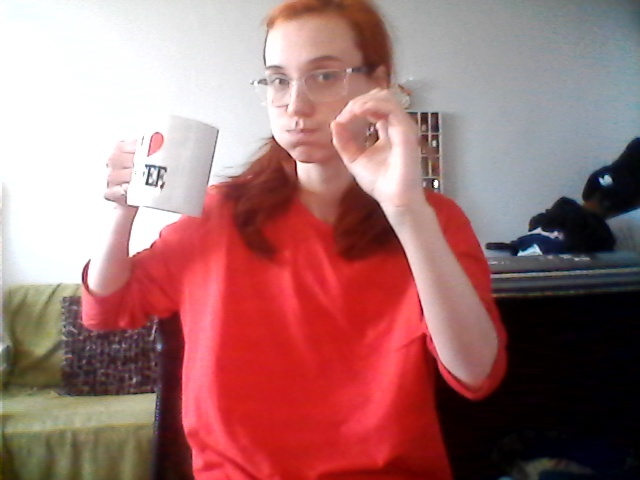o: (319, 84, 437, 198)
